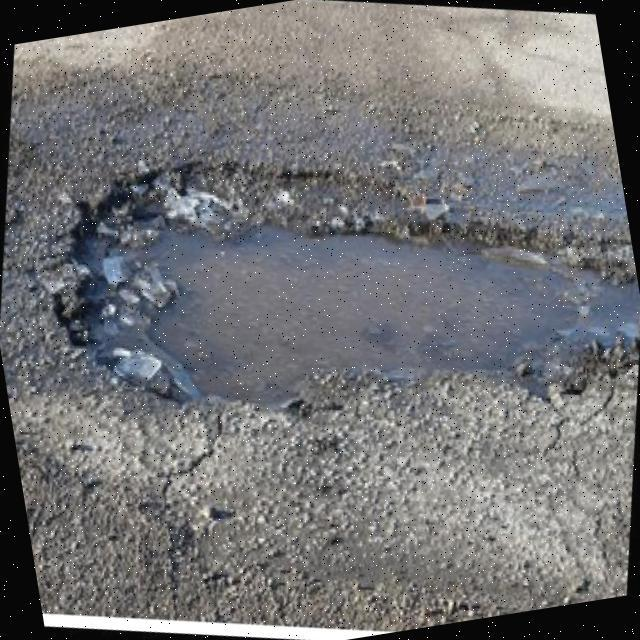Pothole: (50, 162, 640, 406)
